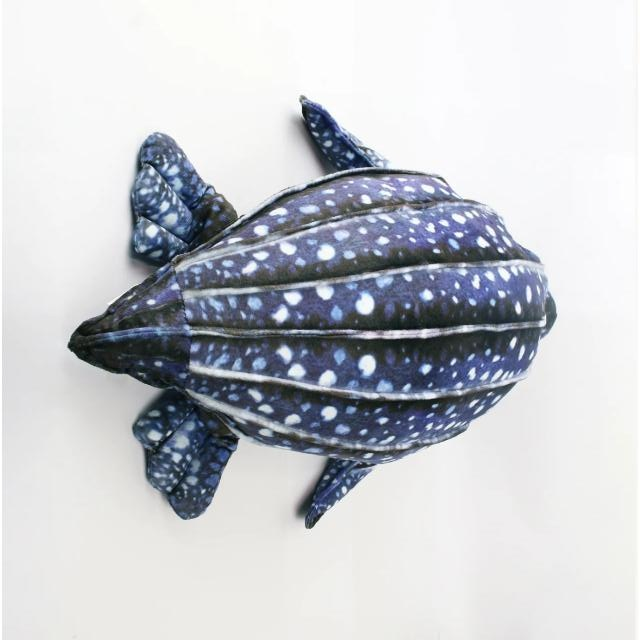turtle: (65, 94, 562, 528)
